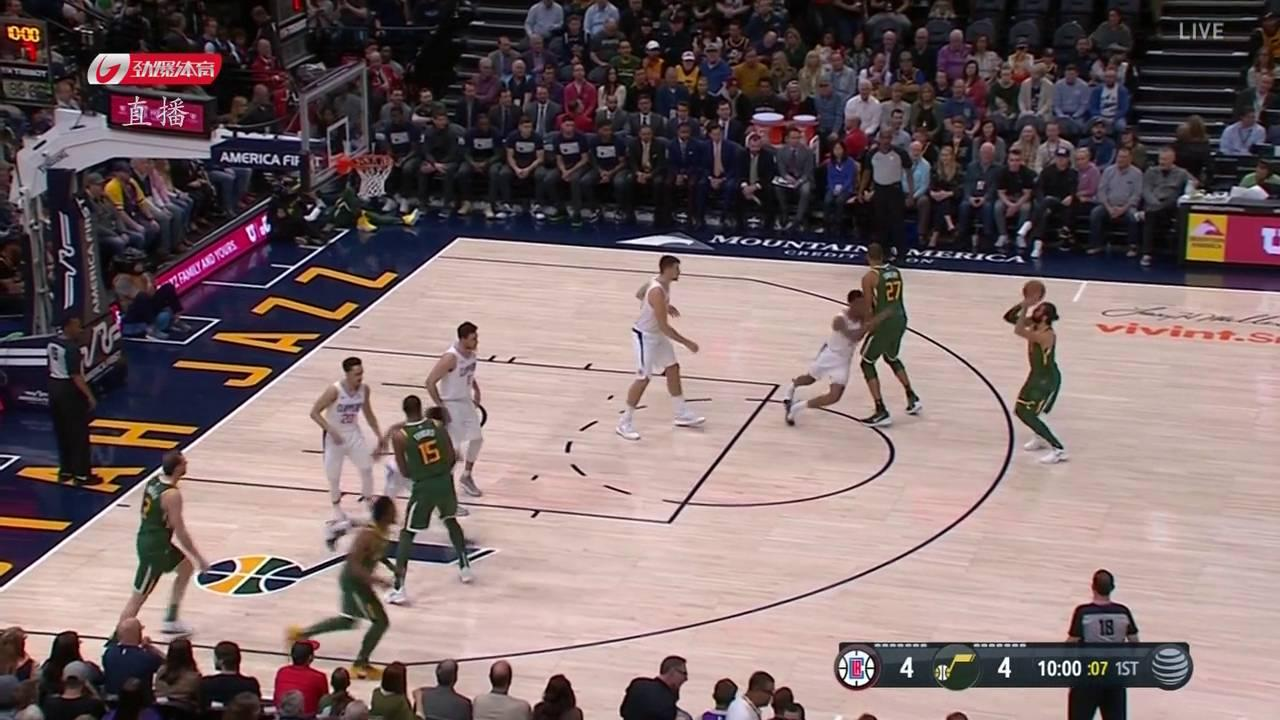basketball: (1022, 278, 1047, 301)
